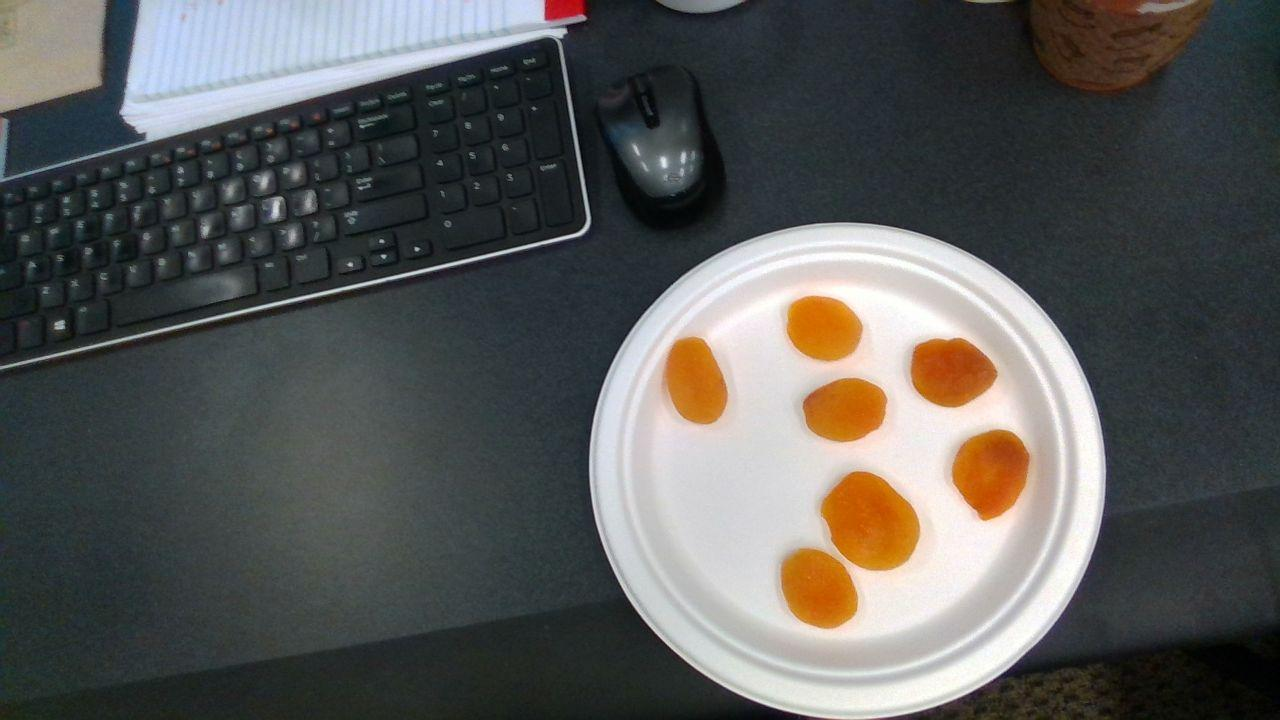apricot: (822, 472, 921, 570), (954, 430, 1030, 521), (912, 338, 998, 407), (784, 550, 857, 628), (805, 379, 889, 443), (667, 338, 727, 423), (789, 296, 864, 361)
